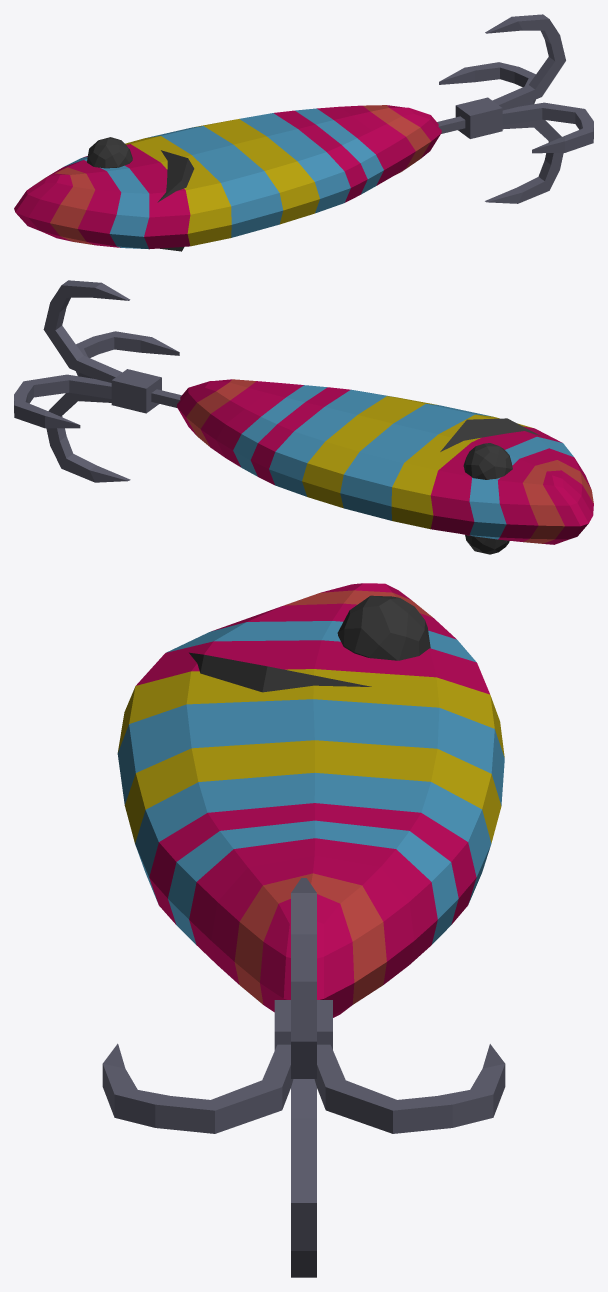
The model's file is Lure_6.glb.
The picture shows the model from 3 angles, top to bottom: view 1: azimuth 30°, elevation 25°; view 2: azimuth 150°, elevation 25°; view 3: azimuth 270°, elevation 25°; orthographic projection. The views are drawn at different scales.
Parts seen in each view (by area): view 1: Lure_6; view 2: Lure_6; view 3: Lure_6.
Boxes of the visible parts, bbox=[...] form: Lure_6: bbox=[14, 14, 593, 251]; Lure_6: bbox=[14, 280, 593, 554]; Lure_6: bbox=[102, 583, 505, 1277].
Bounding box in the file's own units: 1.87 × 0.6167 × 0.6167.
